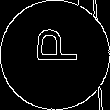P_W: (30, 37, 80, 73)
